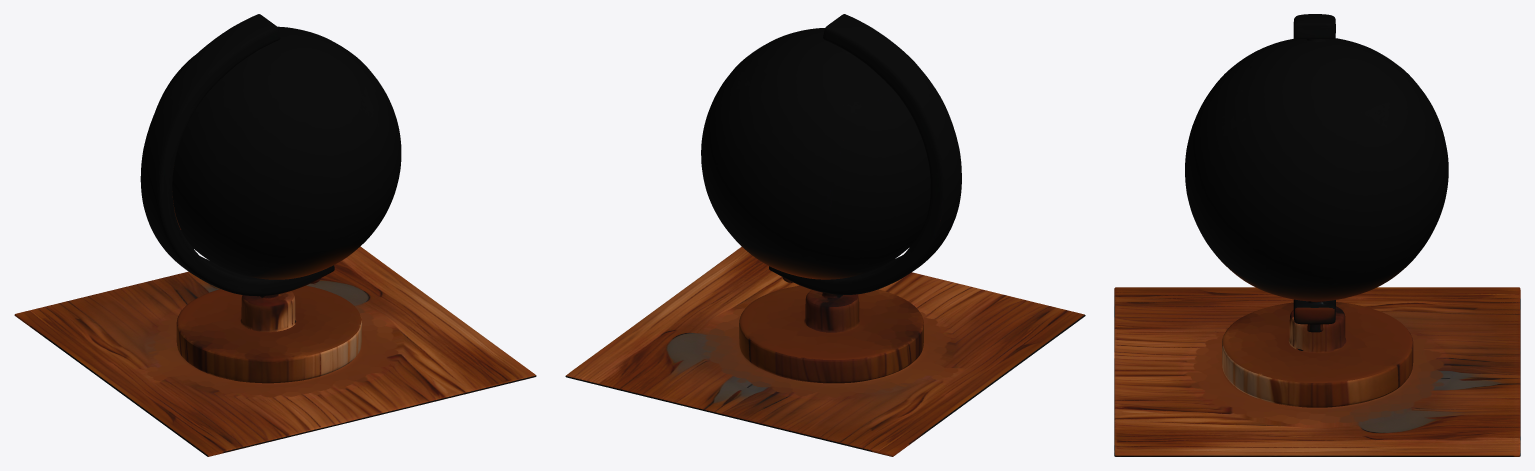
Rendered from Globe.glb.
3 views of the same model, side by side, from view 1: azimuth 30°, elevation 25°; view 2: azimuth 150°, elevation 25°; view 3: azimuth 270°, elevation 25° (orthographic). The views are drawn at different scales.
Visible parts, largest first — view 1: Globe; view 2: Globe; view 3: Globe.
Boxes of the visible parts, <box> form: Globe: <box>14,14,536,456</box>; Globe: <box>565,14,1085,456</box>; Globe: <box>1114,14,1520,456</box>.
Size of the model in its own units: 1.96 by 1.87 by 1.99.
Materials: 1 (1 with a texture image).
